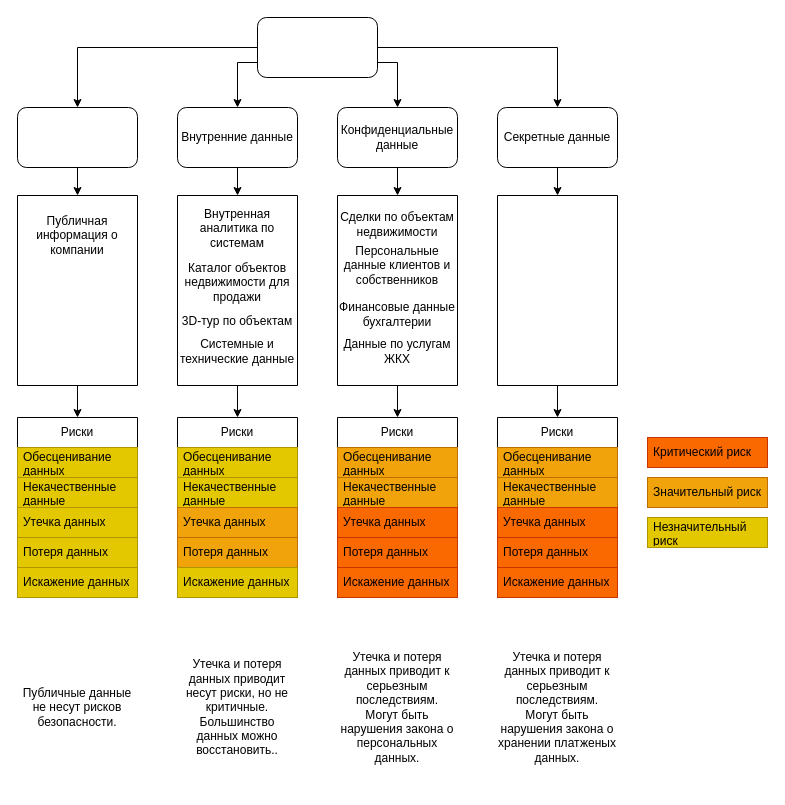
The diagram is 785 pixels wide and 805 high, and some of its shapes have lost their labels. The box of each missing label's shape, as (x1, y1, x2, y2) in pixels:
Безопасность данных: (256, 16, 378, 78)
Платежные данные клиентов: (496, 194, 618, 386)
Публичные данные: (16, 106, 138, 168)
